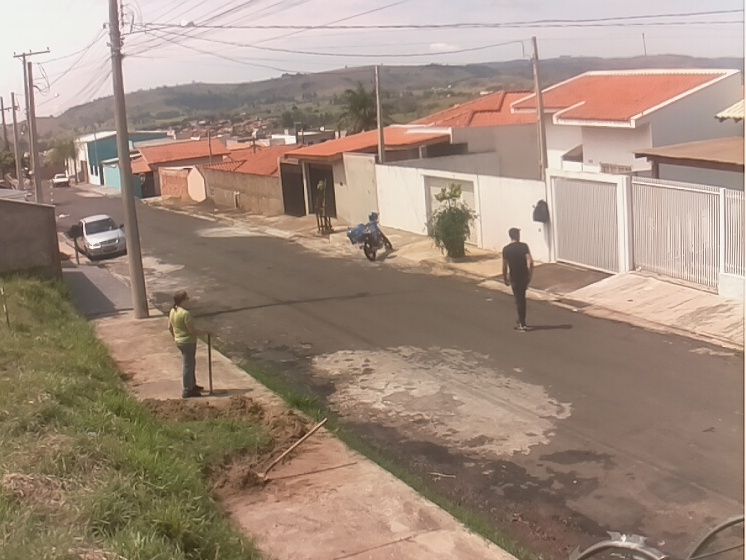person: (168, 290, 206, 397), (501, 228, 534, 333)
